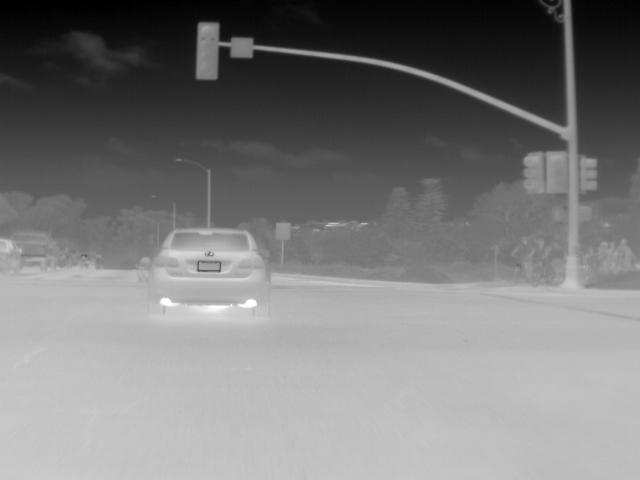car: (139, 227, 277, 316), (10, 230, 60, 274), (0, 238, 22, 280), (134, 256, 152, 270)
person: (511, 236, 533, 282), (528, 236, 545, 268), (545, 242, 563, 264)
